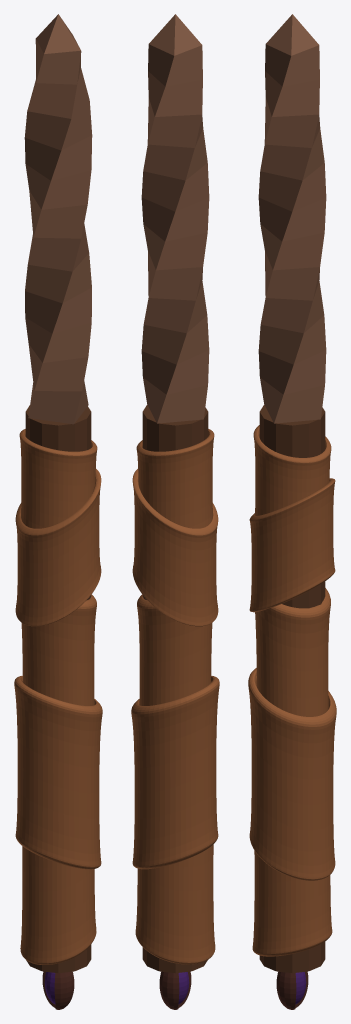
The model's file is Wand 357.glb.
The picture shows the model from 3 angles, left to right: view 1: azimuth 30°, elevation 25°; view 2: azimuth 150°, elevation 25°; view 3: azimuth 330°, elevation 25°; orthographic projection.
Visible parts, largest first — view 1: GeneratedWand; view 2: GeneratedWand; view 3: GeneratedWand.
Part boxes in pixels (left/top/right/bottom): GeneratedWand: left=14, top=14, right=102, bottom=1009; GeneratedWand: left=131, top=14, right=219, bottom=1009; GeneratedWand: left=248, top=14, right=336, bottom=1009.
Bounding box in the file's own units: 0.0408 × 0.5059 × 0.0408.
